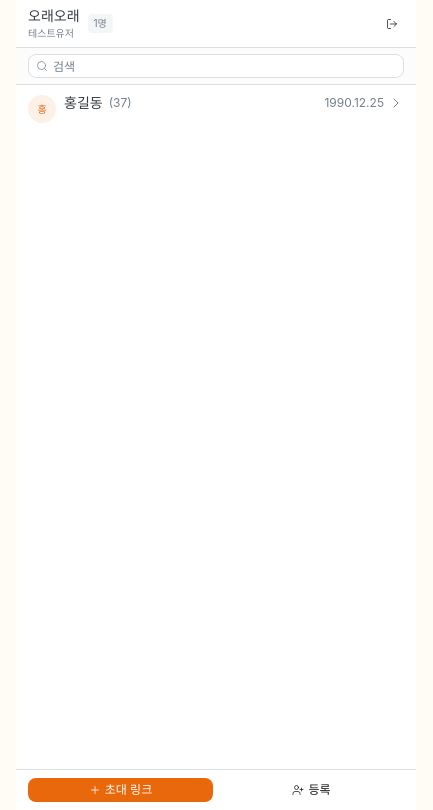
Test: HomePage › 생일/나이 표시 (PRD-005) › 나이 클릭 시 한국나이/만나이 토글된다
Click the text "(37)" at point(120, 103), box [109,95,132,111]
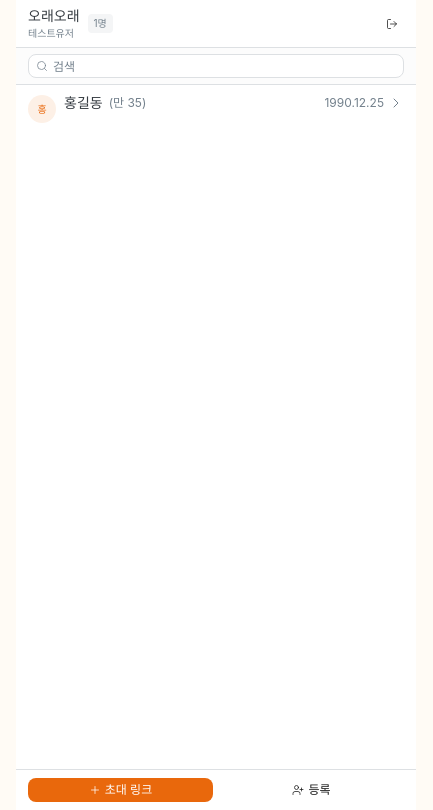
Expected: the text "(만 35)" is shown
다시 클릭하면 한국나이로
Click the text "(만 35)" at point(127, 103), box [109,95,146,111]
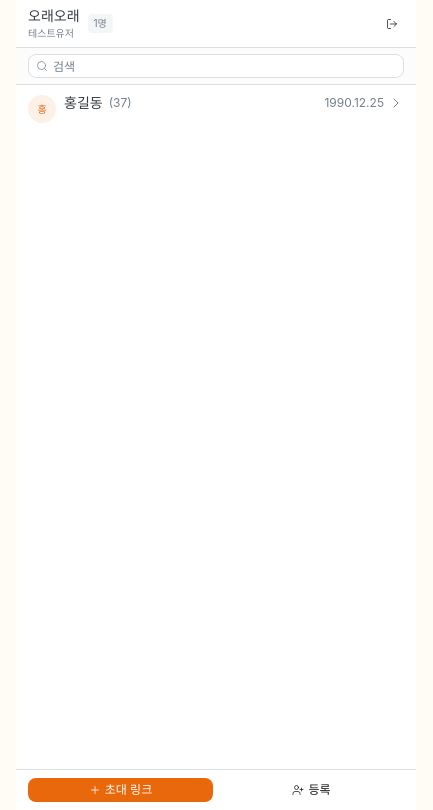
Expected: the text "(37)" is shown, [109,95,132,111]
